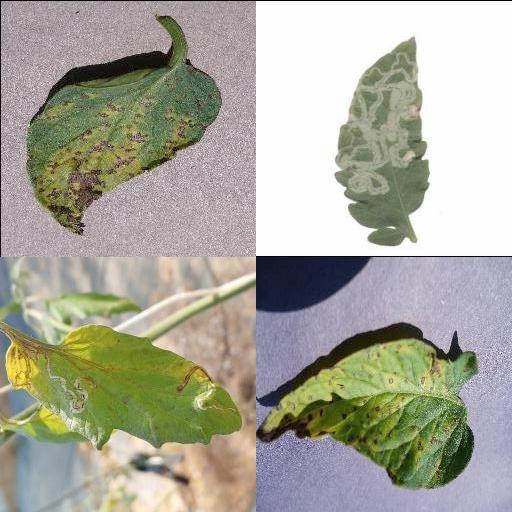Leaf Miner: (1, 318, 243, 450), (332, 37, 430, 246)
Septoria: (25, 57, 220, 233), (257, 336, 481, 488)
